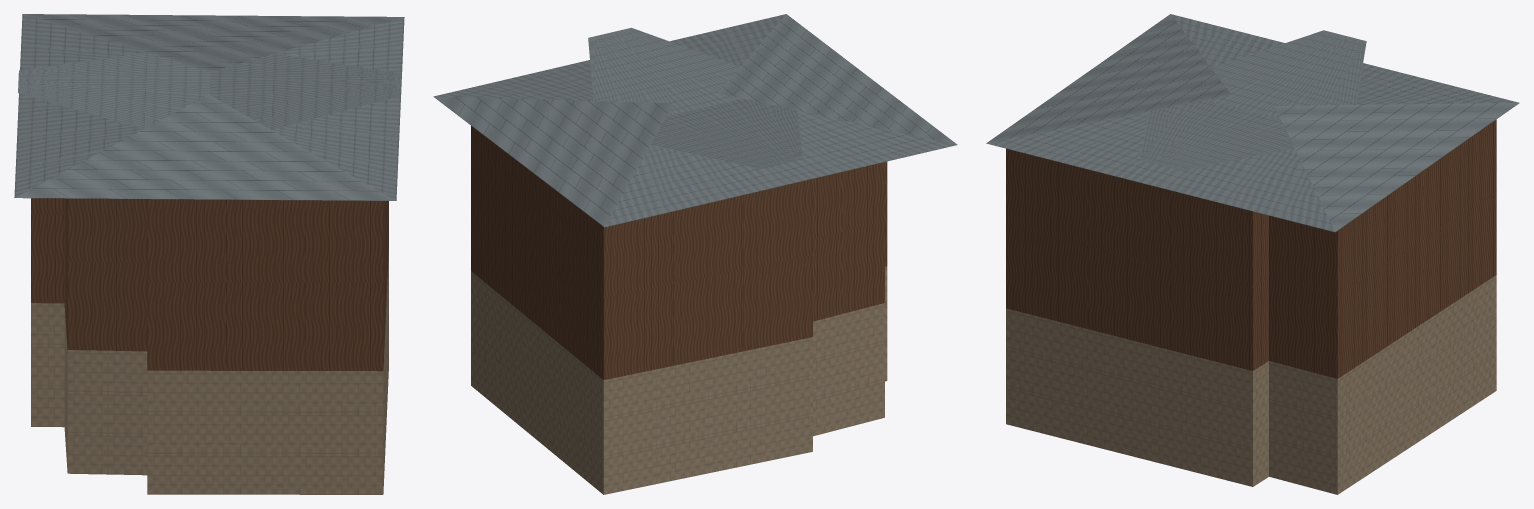
Rendered from bld_c15_24_401.gltf.
3 renders of one model, left to right at view 1: azimuth 30°, elevation 25°; view 2: azimuth 150°, elevation 25°; view 3: azimuth 270°, elevation 25°, orthographic. The views are drawn at different scales.
Visible parts, largest first — view 1: bld_c15_24_401; view 2: bld_c15_24_401; view 3: bld_c15_24_401.
Part boxes in pixels (x1,y1,x2,y2): bld_c15_24_401: (14, 14, 404, 494); bld_c15_24_401: (433, 14, 957, 494); bld_c15_24_401: (986, 14, 1519, 494).
Size of the model in its own units: 20.61 by 13.4 by 21.29.
Materials: 3 (3 with a texture image).
